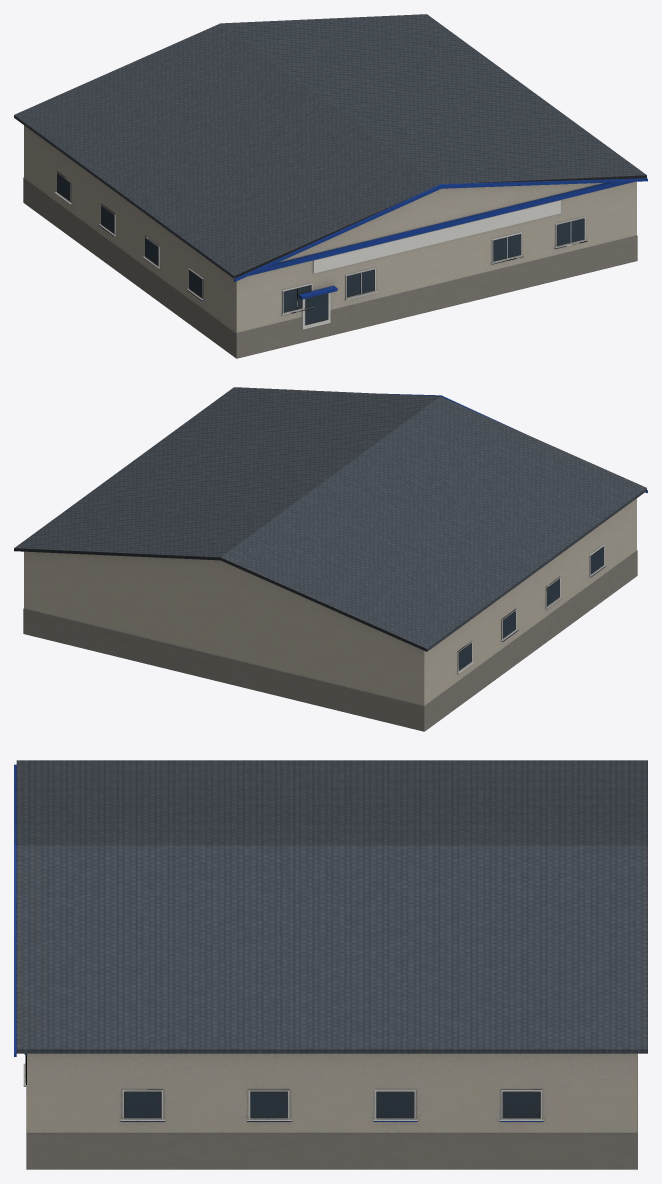
File: komfort.glb
The picture shows the model from 3 angles, top to bottom: view 1: azimuth 30°, elevation 25°; view 2: azimuth 150°, elevation 25°; view 3: azimuth 270°, elevation 25°; orthographic projection. The views are drawn at different scales.
Visible parts, largest first — view 1: komfort; view 2: komfort; view 3: komfort.
Boxes of the visible parts, x1=… form: komfort: x1=14, y1=14, x2=647, y2=358; komfort: x1=14, y1=387, x2=647, y2=731; komfort: x1=14, y1=760, x2=647, y2=1169.
Size of the model in its own units: 32.5 by 9.65 by 30.12.
Materials: 1 (1 with a texture image).
